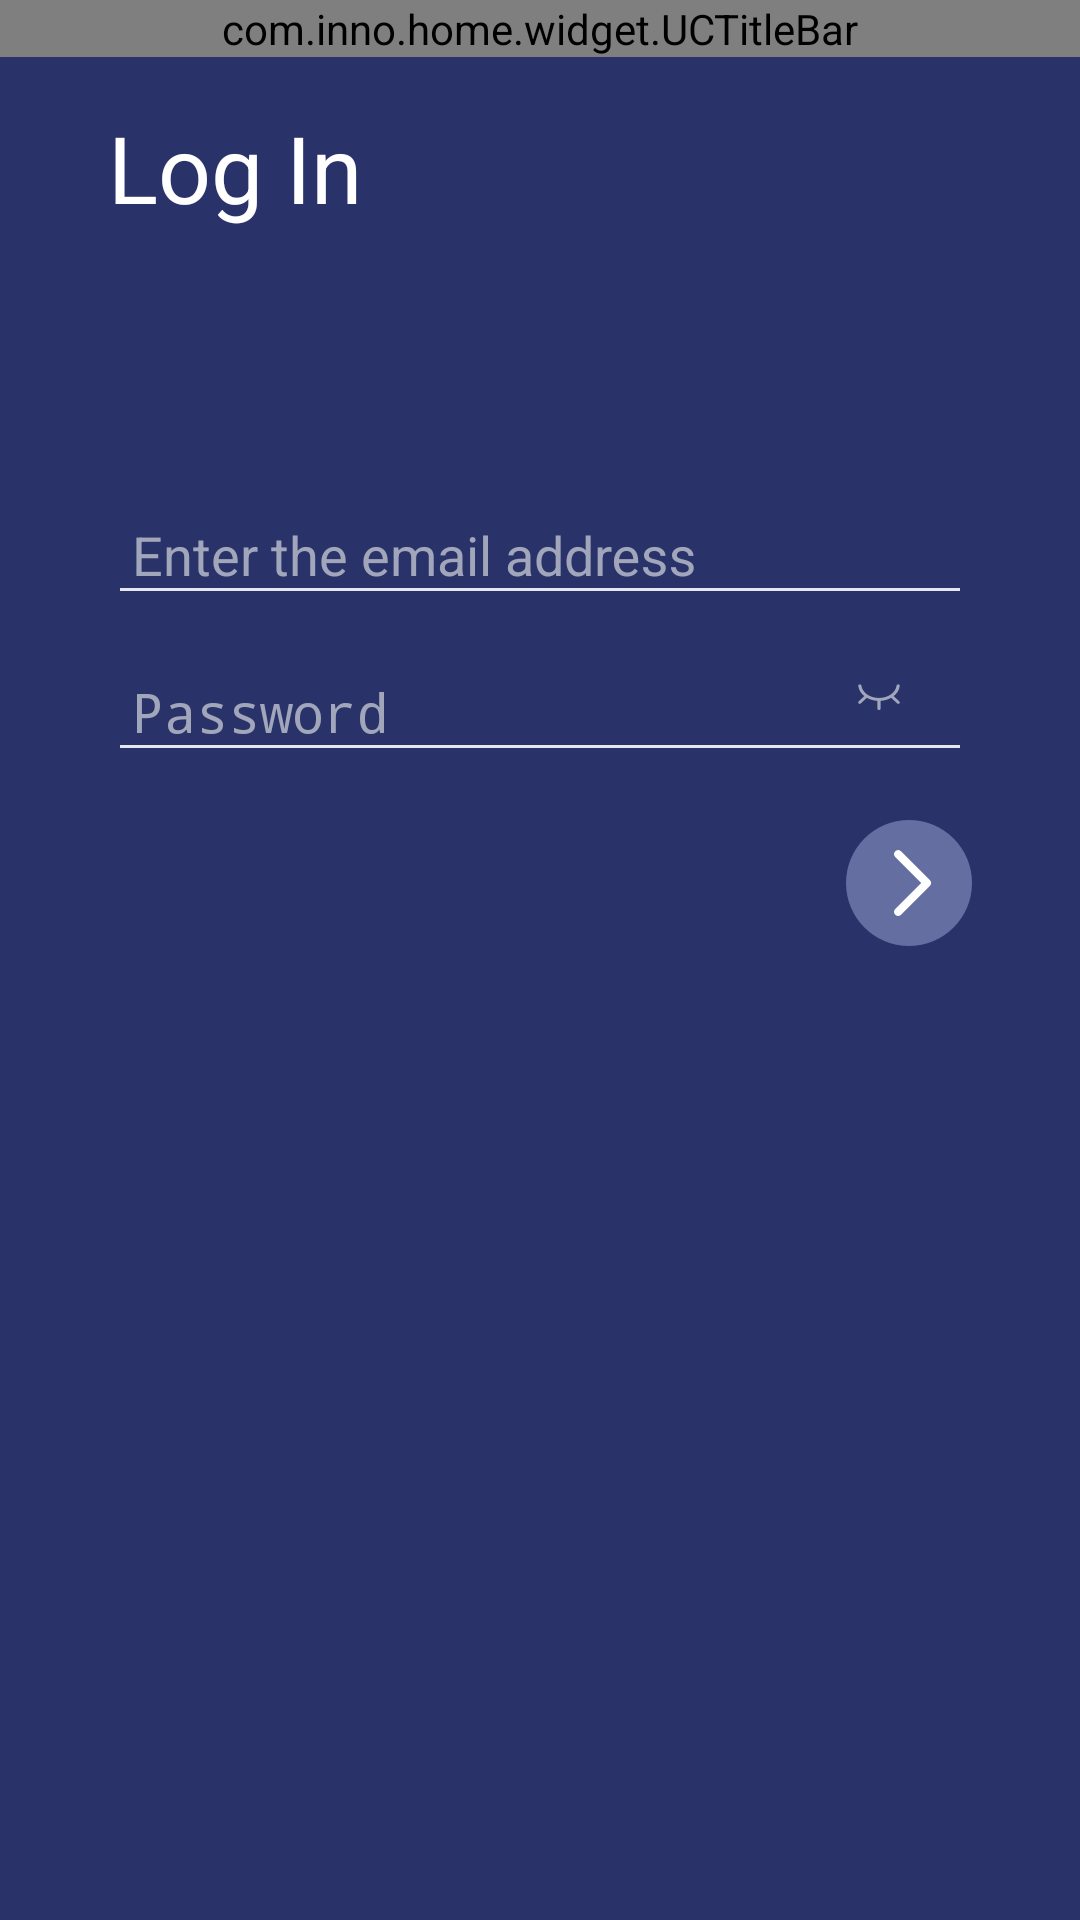

Named icons in this screenshot (1080w x 1920h) and their bounding boxes, (x1, y1, x2, y2):
switch pwd mode: (858, 684, 900, 710)
